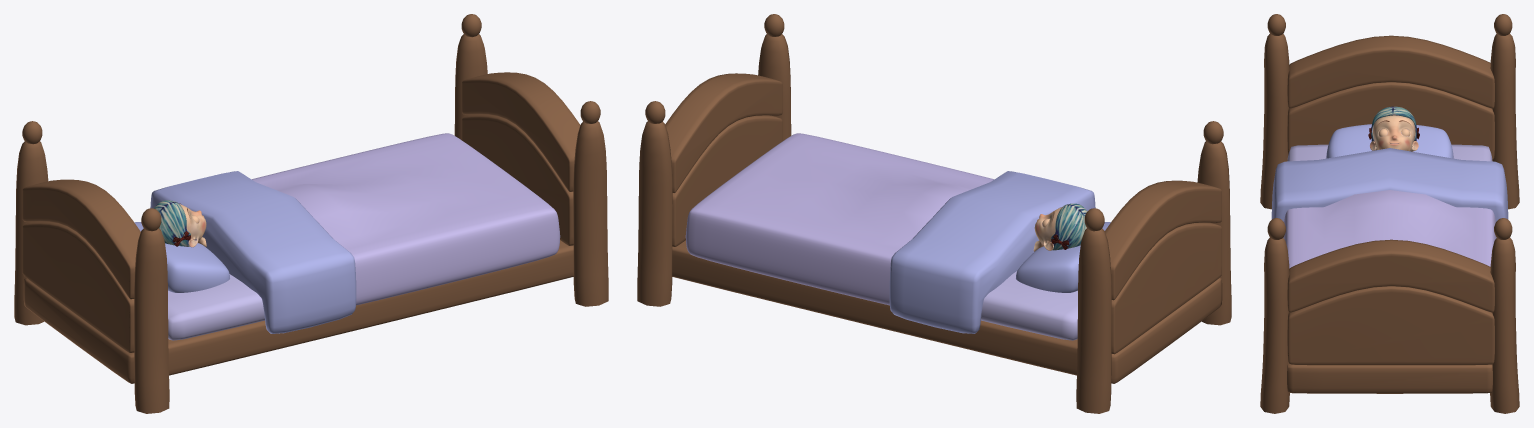
The model's file is ANNA_bed.fbx.
3 views of the same model, side by side, from view 1: azimuth 30°, elevation 25°; view 2: azimuth 150°, elevation 25°; view 3: azimuth 270°, elevation 25° (orthographic). The views are drawn at different scales.
Parts seen in each view (by area): view 1: BSC_Low_poly_simple_bed_Base, BSC_Bedding, BSC_Pillow_1, Thorax_2.001; view 2: BSC_Low_poly_simple_bed_Base, BSC_Bedding, BSC_Pillow_1, Thorax_2.001; view 3: BSC_Low_poly_simple_bed_Base, BSC_Bedding, BSC_Pillow_1, Thorax_2.001.
Boxes of the visible parts, x1,y1,x2,y2 form: BSC_Low_poly_simple_bed_Base: (14,14,608,413); BSC_Bedding: (150,133,560,340); BSC_Pillow_1: (134,222,229,292); Thorax_2.001: (154,200,206,247); BSC_Low_poly_simple_bed_Base: (637,14,1231,413); BSC_Bedding: (685,133,1095,340); BSC_Pillow_1: (1016,222,1110,292); Thorax_2.001: (1033,203,1087,251); BSC_Low_poly_simple_bed_Base: (1260,14,1519,413); BSC_Bedding: (1271,144,1508,268); BSC_Pillow_1: (1326,124,1453,158); Thorax_2.001: (1368,106,1419,151).
Size of the model in its own units: 200 by 80 by 100.
